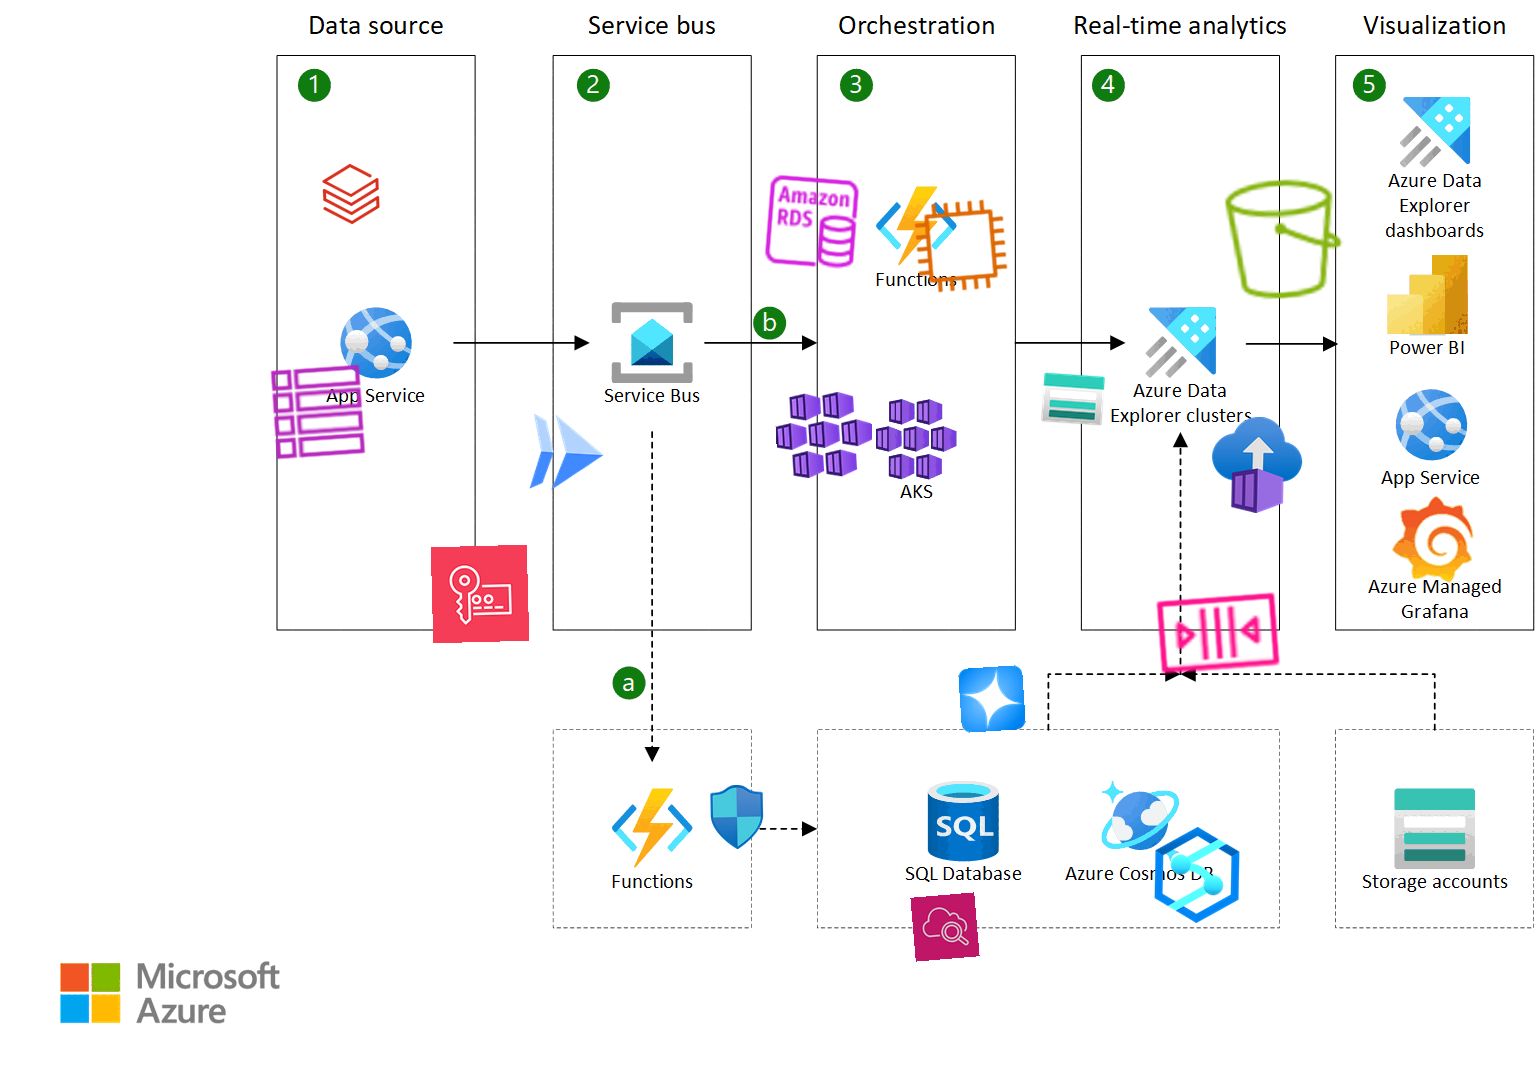aws_amazon_cloudwatch: (910, 892, 980, 962)
aws_aurora_amazon_rds_instance: (760, 170, 864, 274)
aws_dynamodb_table: (266, 360, 370, 464)
aws_ec2_instance: (909, 195, 1014, 298)
aws_key_management_service: (430, 544, 530, 643)
aws_simple_queue_service_queue: (1149, 563, 1287, 701)
aws_simple_storage_service_bucket: (1216, 171, 1352, 307)
azure_container_instances: (1207, 415, 1307, 515)
azure_databricks: (318, 161, 386, 229)
azure_kubernetes_services: (773, 383, 875, 485)
azure_network_security_groups: (704, 784, 770, 850)
azure_openai: (957, 665, 1026, 734)
azure_storage_accounts: (1038, 365, 1108, 434)
azure_synapse_analytics: (1148, 826, 1246, 924)
gcp_cloud_run: (516, 402, 618, 504)
